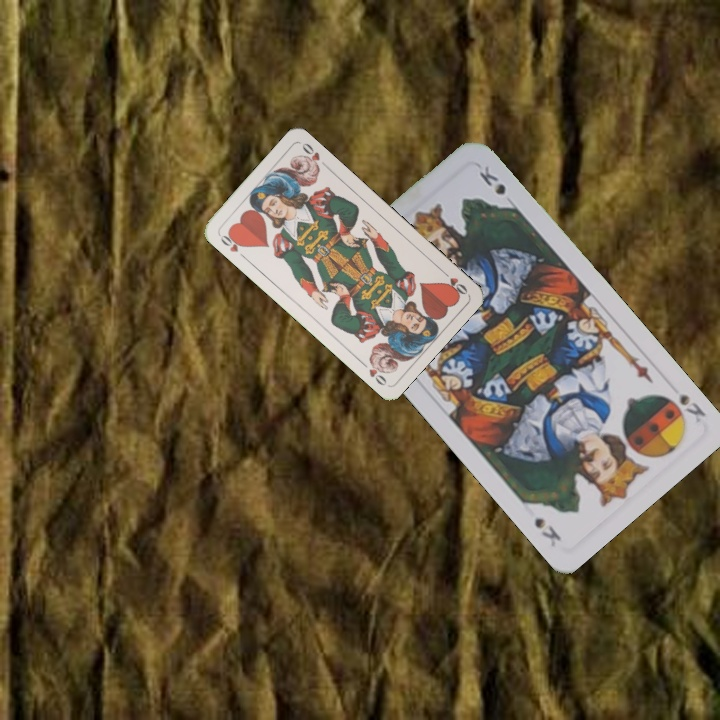HO: (215, 228, 249, 261), (437, 266, 470, 298)
SK: (659, 389, 709, 426)
